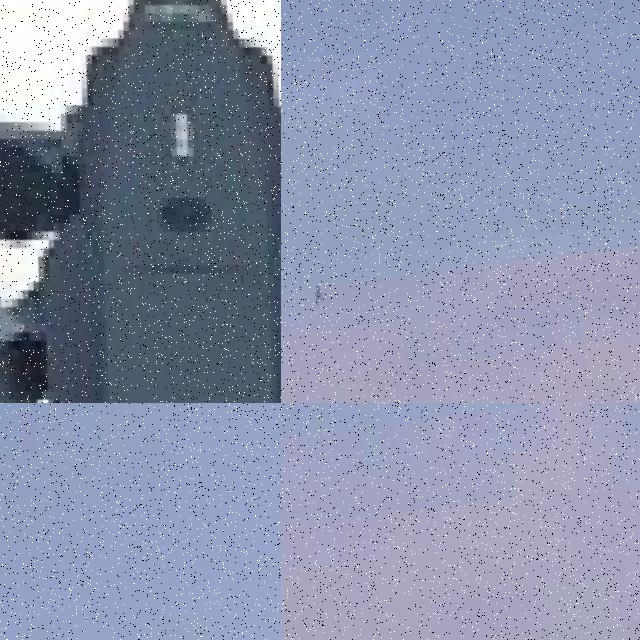drone: (0, 0, 281, 403)
